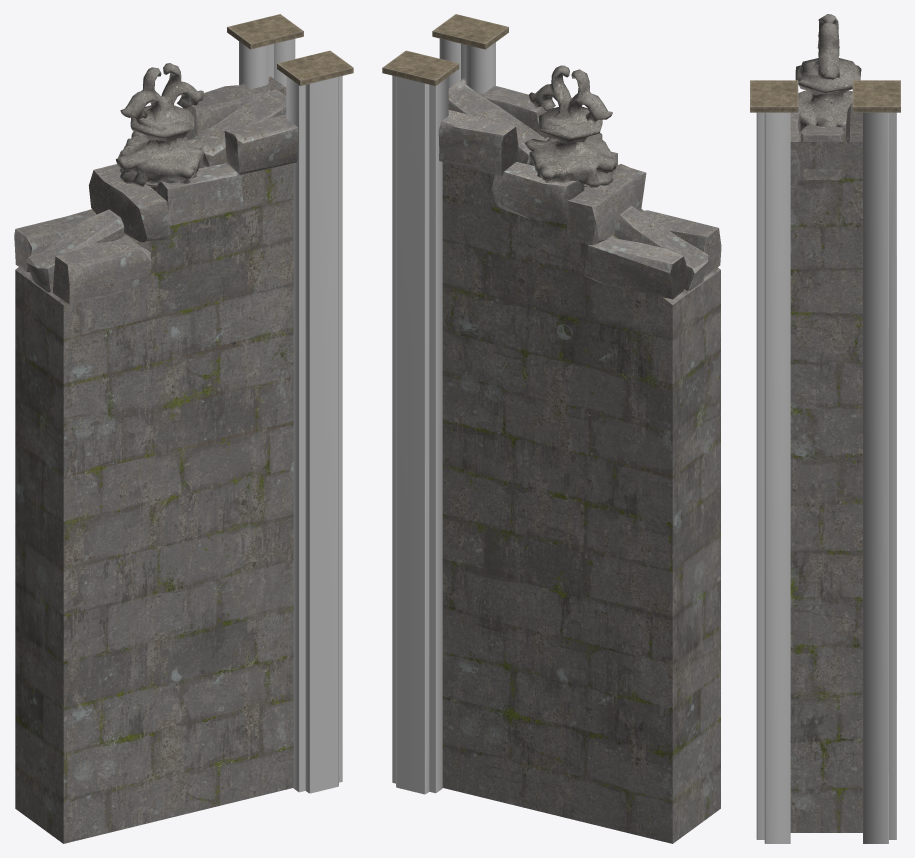
File: SM_Ex_Stair_Wall.fbx
The picture shows the model from 3 angles, left to right: view 1: azimuth 30°, elevation 25°; view 2: azimuth 150°, elevation 25°; view 3: azimuth 270°, elevation 25°; orthographic projection. The views are drawn at different scales.
Visible parts, largest first — view 1: SM_Ex_Stair_Wall_LOD0; view 2: SM_Ex_Stair_Wall_LOD0; view 3: SM_Ex_Stair_Wall_LOD0.
Part boxes in pixels (x1=…): SM_Ex_Stair_Wall_LOD0: x1=14, y1=14, x2=353, y2=843; SM_Ex_Stair_Wall_LOD0: x1=382, y1=14, x2=721, y2=843; SM_Ex_Stair_Wall_LOD0: x1=750, y1=14, x2=900, y2=843.
Bounding box in the file's own units: 224 × 100 × 550.
